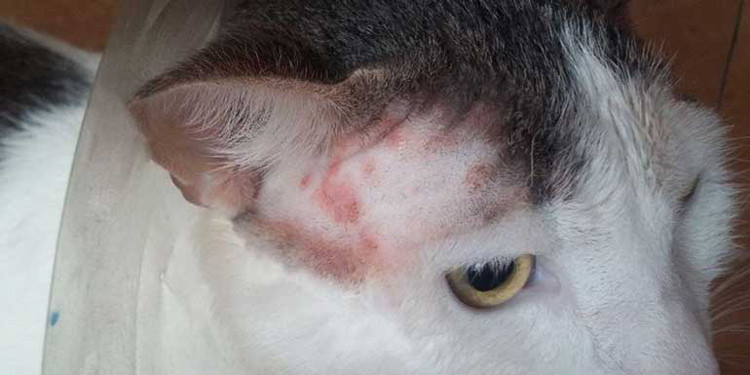ringworm: (301, 166, 361, 225), (350, 233, 396, 276)
